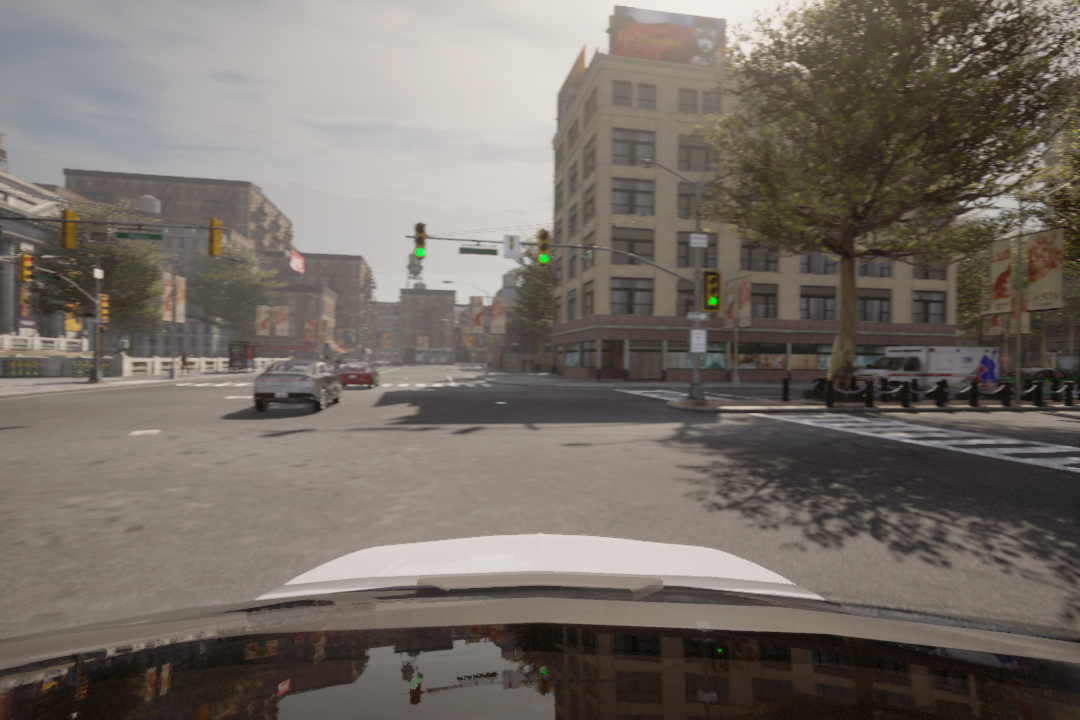TrafficLight: (704, 274, 725, 313), (535, 228, 553, 266), (411, 222, 427, 261)
